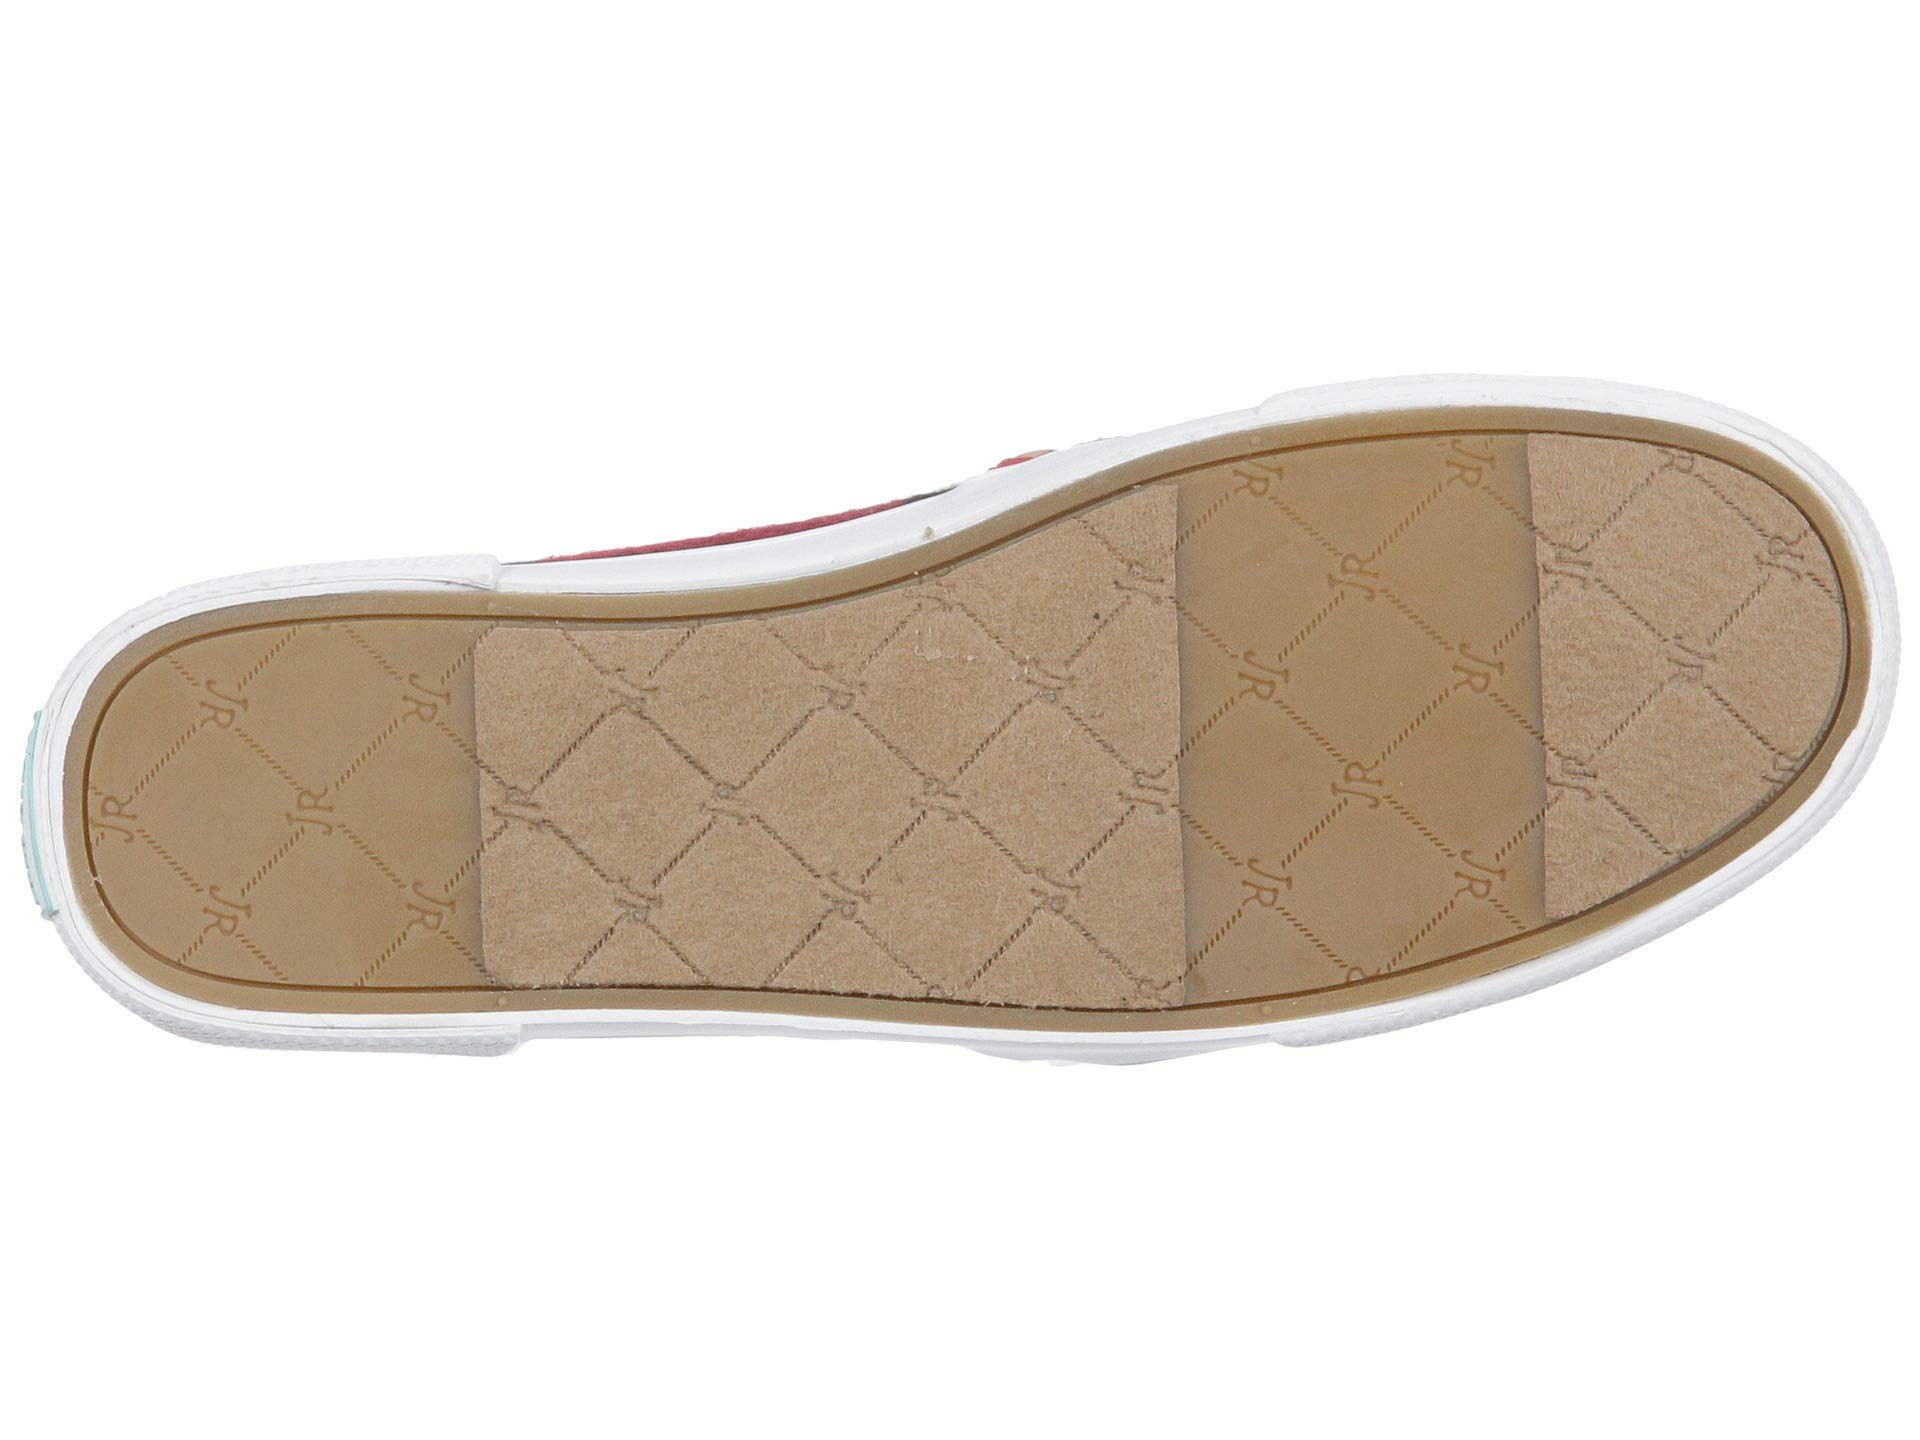quad: (1087, 534, 1547, 944), (680, 619, 1058, 991)
text: (1087, 534, 1547, 944), (680, 619, 1058, 991)
